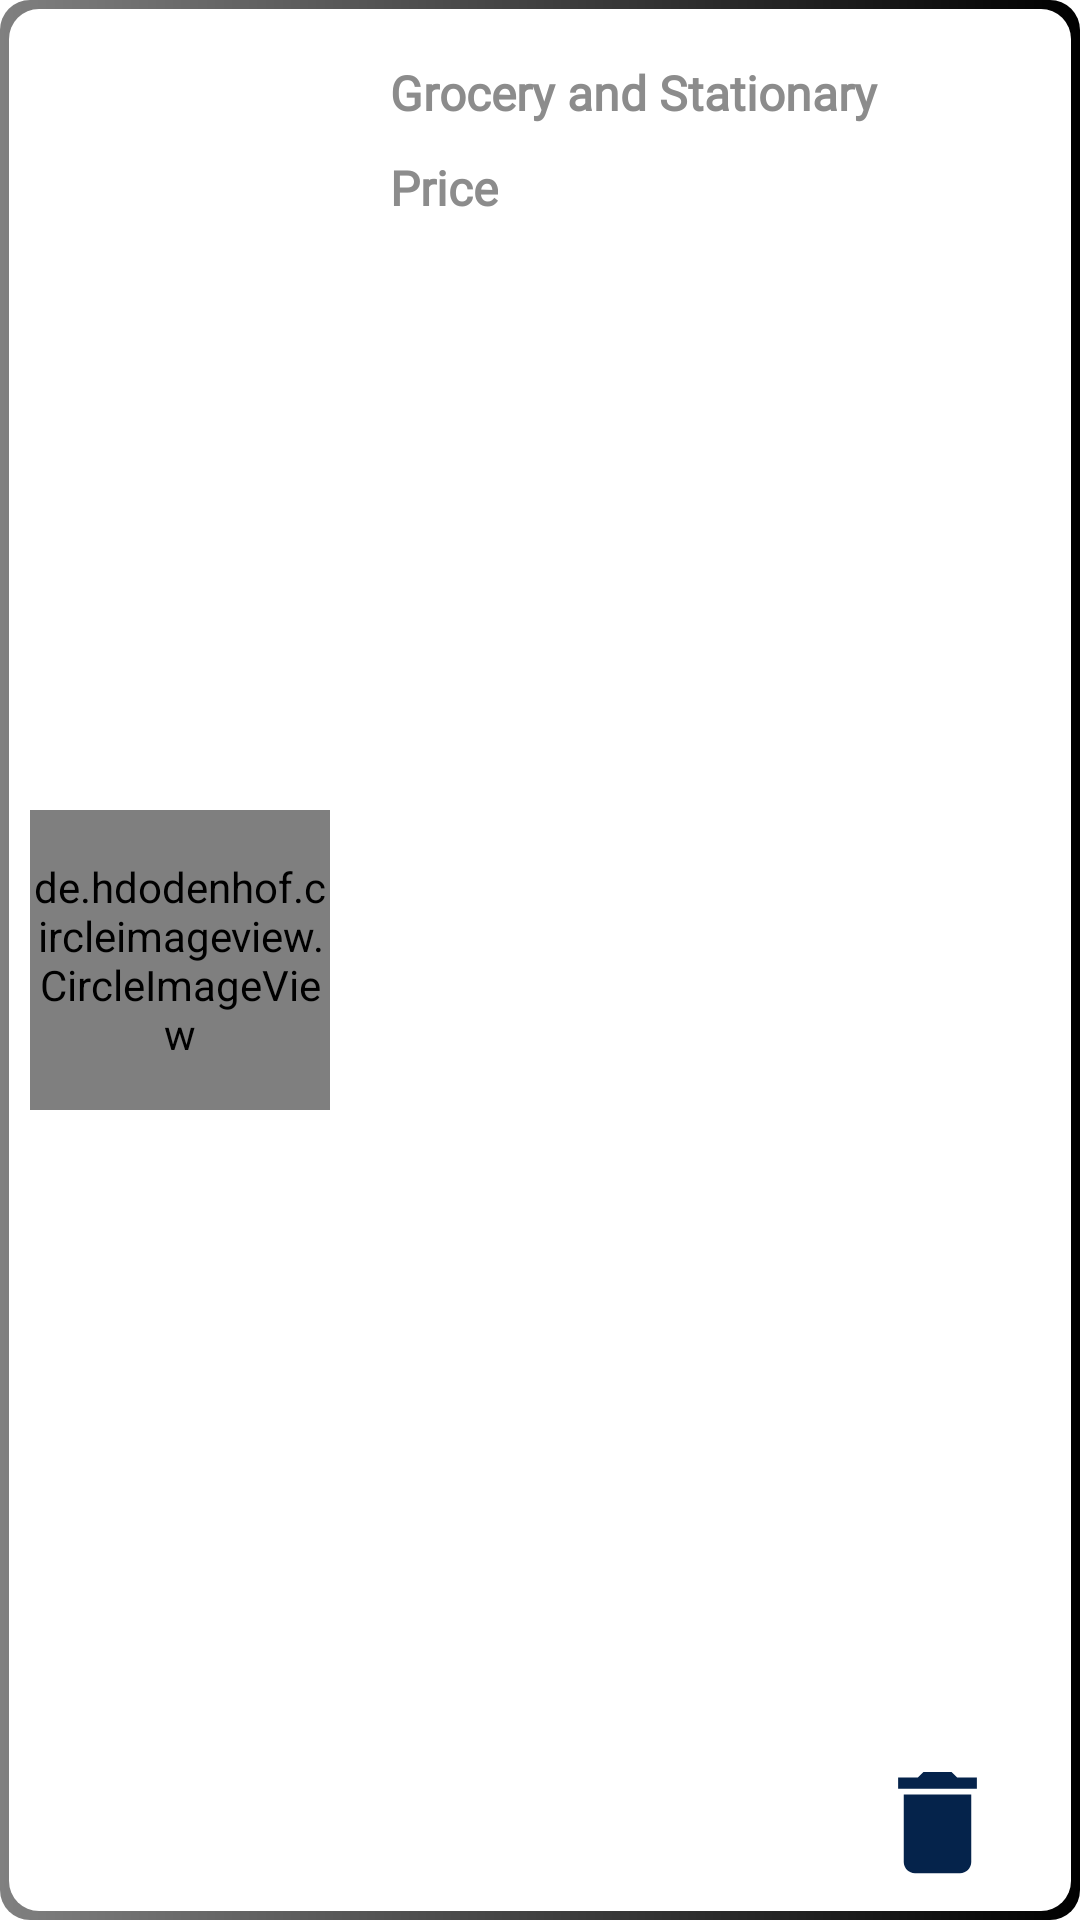

Named icons in this screenshot (1080w x 1920h) and their bounding boxes, (x1, y1, x2, y2):
delete: (898, 1772, 977, 1874)
